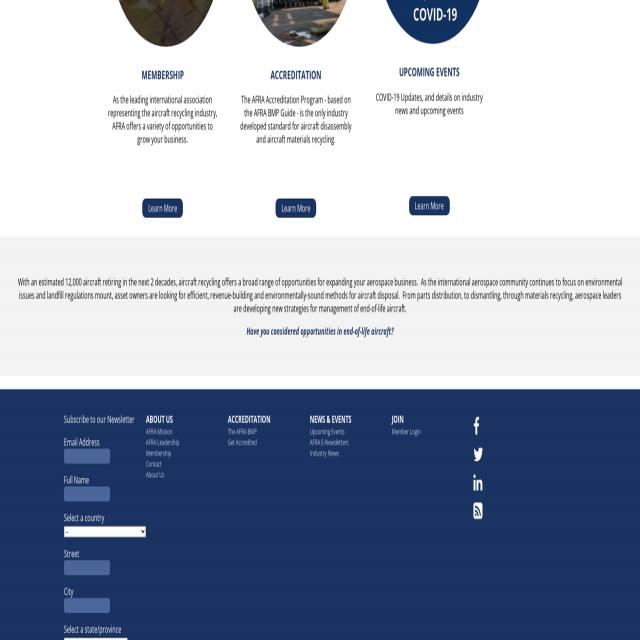button: (373, 0, 492, 238), (239, 0, 358, 238), (107, 0, 225, 236), (275, 198, 316, 218), (142, 199, 184, 217), (410, 197, 449, 214), (470, 468, 485, 494), (470, 497, 485, 522), (472, 441, 486, 466), (471, 412, 482, 438)
field: (64, 526, 146, 537), (64, 448, 110, 464), (64, 486, 110, 501), (64, 560, 110, 575), (64, 598, 110, 613)
